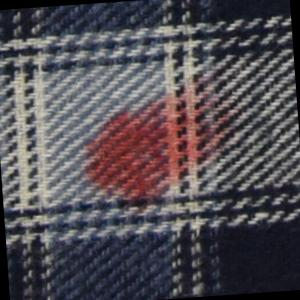Stain: (77, 71, 243, 216)
